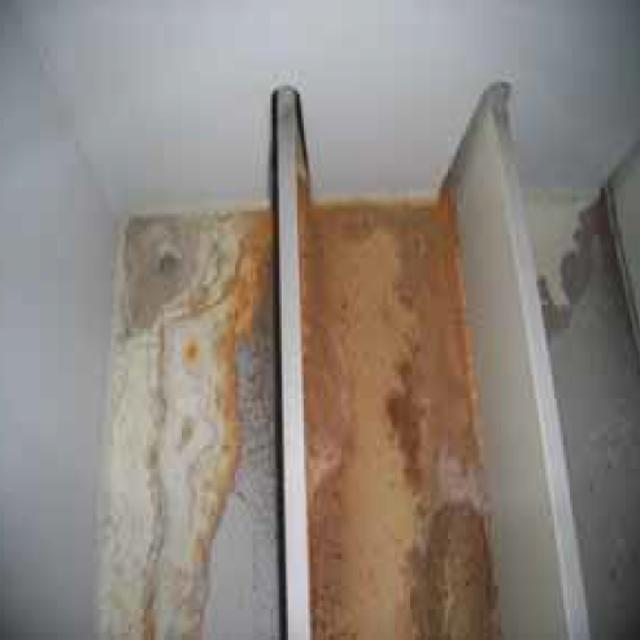corrosion: (107, 160, 506, 637)
